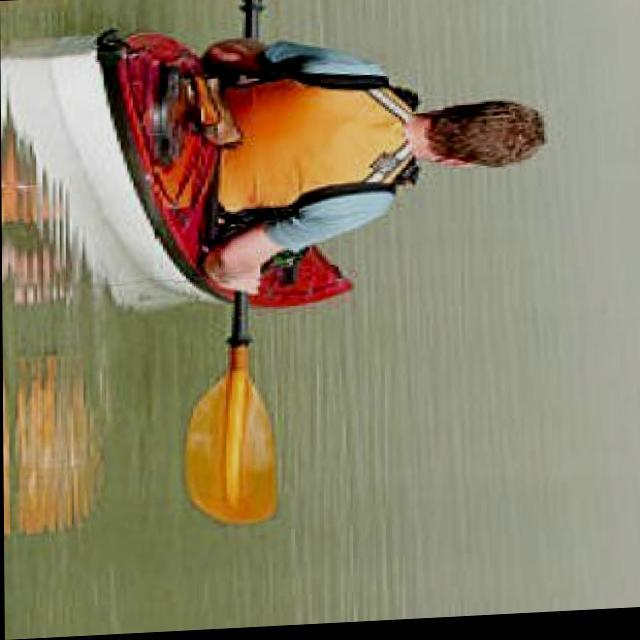kayak: (0, 30, 351, 524)
